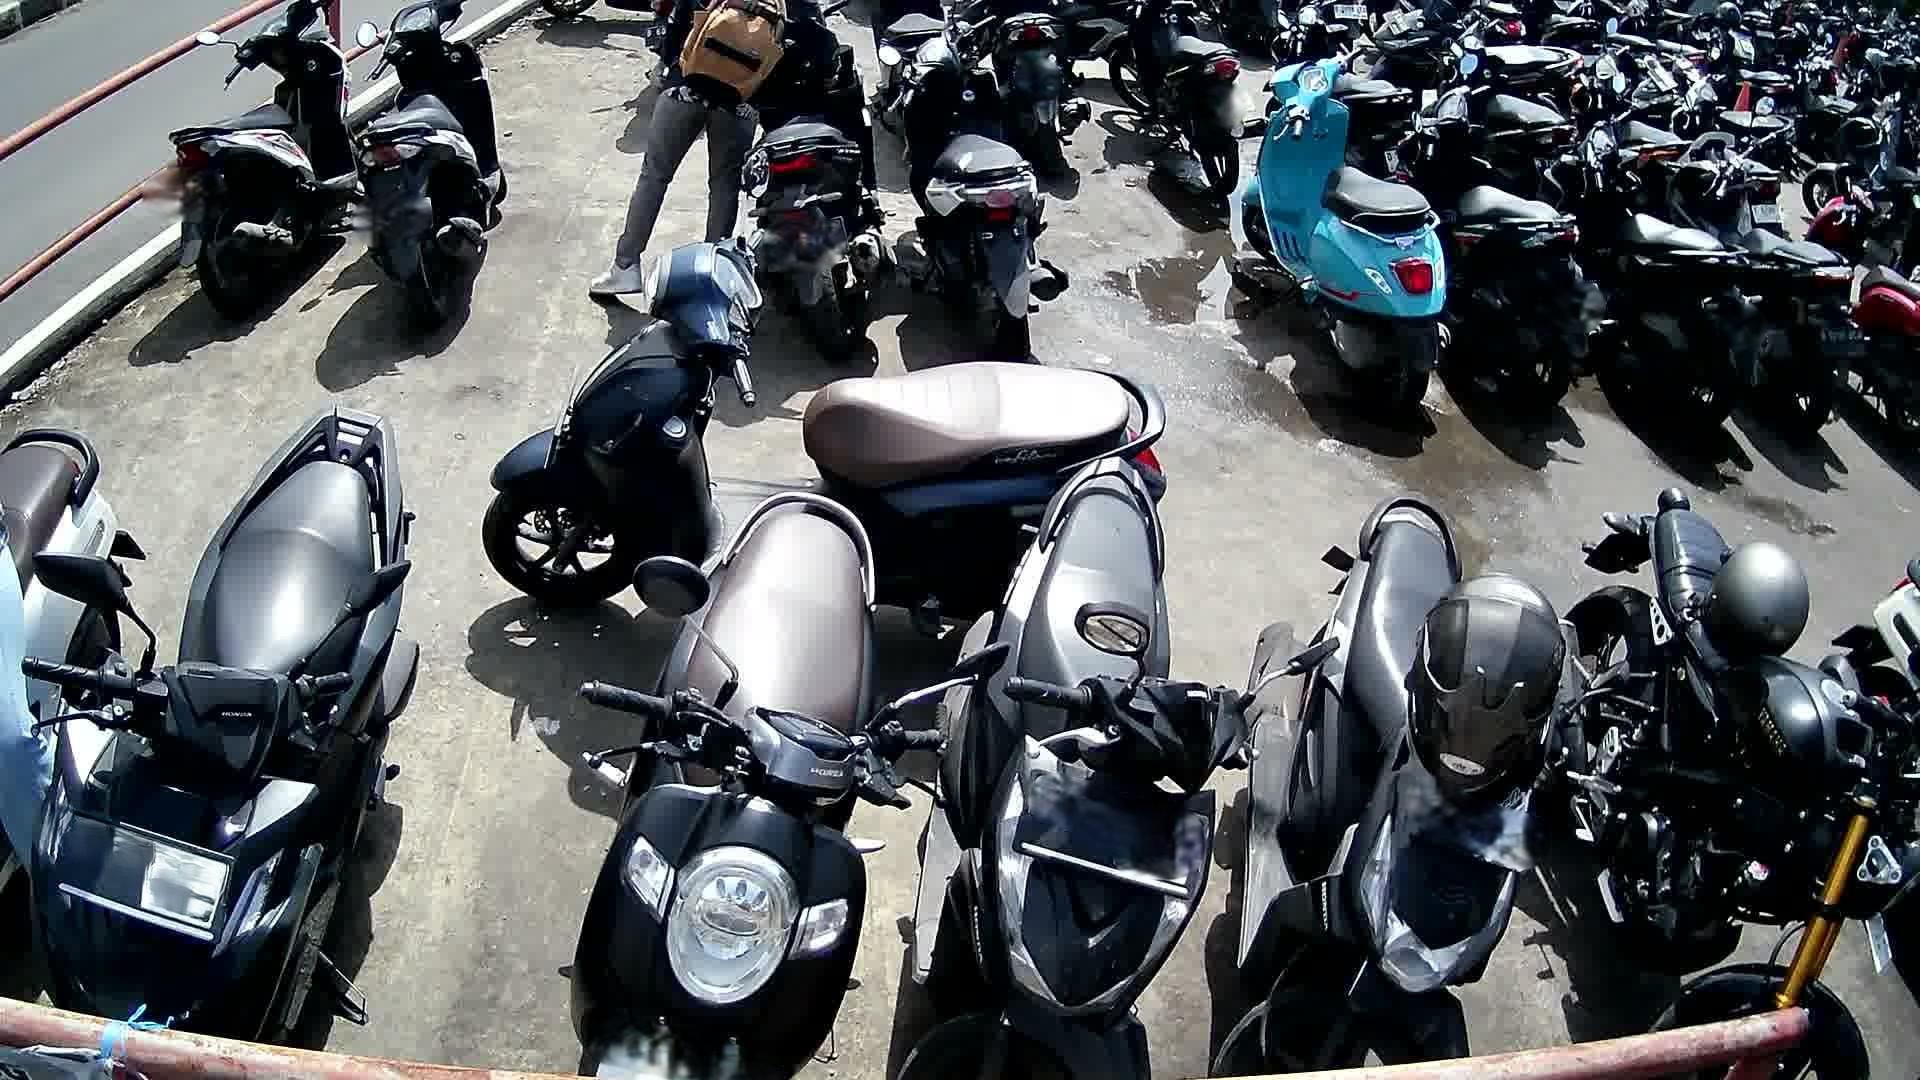motorcycle: (483, 156, 1168, 629), (905, 465, 1341, 1080), (566, 492, 1013, 1077), (24, 409, 425, 1027), (1213, 493, 1630, 1080), (1565, 493, 1920, 1080), (1534, 49, 1768, 425), (1391, 53, 1619, 430), (0, 423, 148, 996), (1238, 41, 1455, 418), (1669, 95, 1869, 436), (880, 5, 1071, 348), (167, 0, 364, 320), (356, 3, 508, 340), (742, 45, 901, 361), (1808, 164, 1920, 442)
